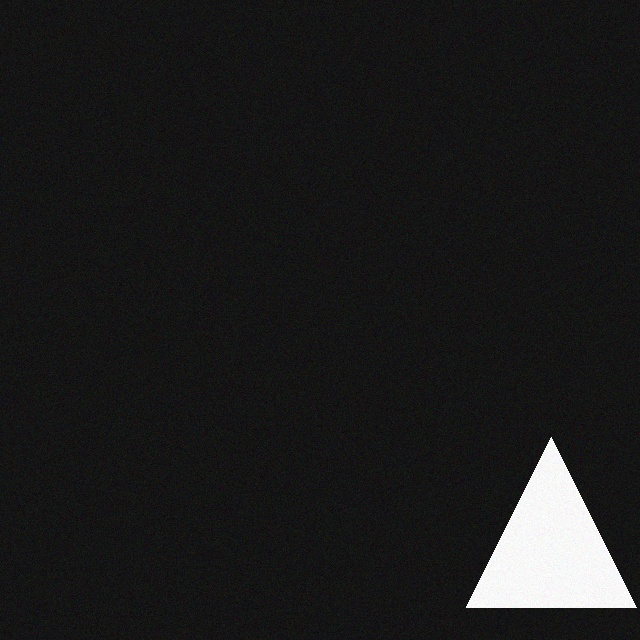triangle: (465, 443, 635, 613)
